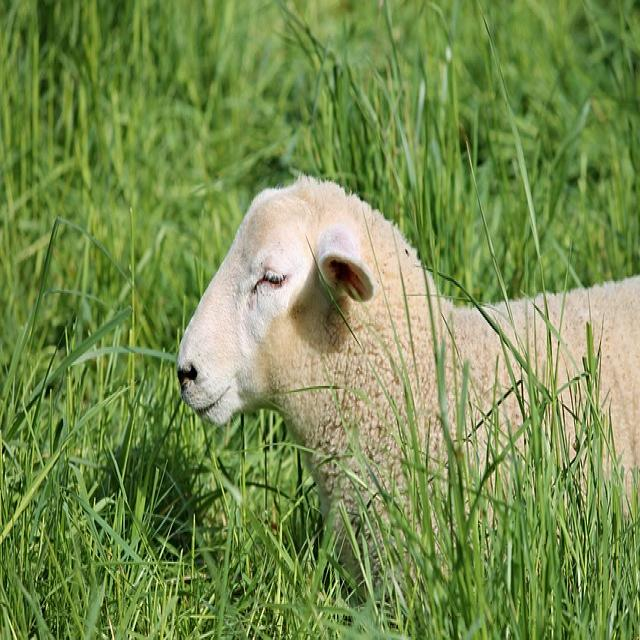sheep: (175, 171, 639, 610)
